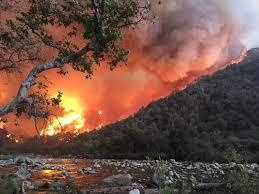fire: (37, 87, 88, 137)
